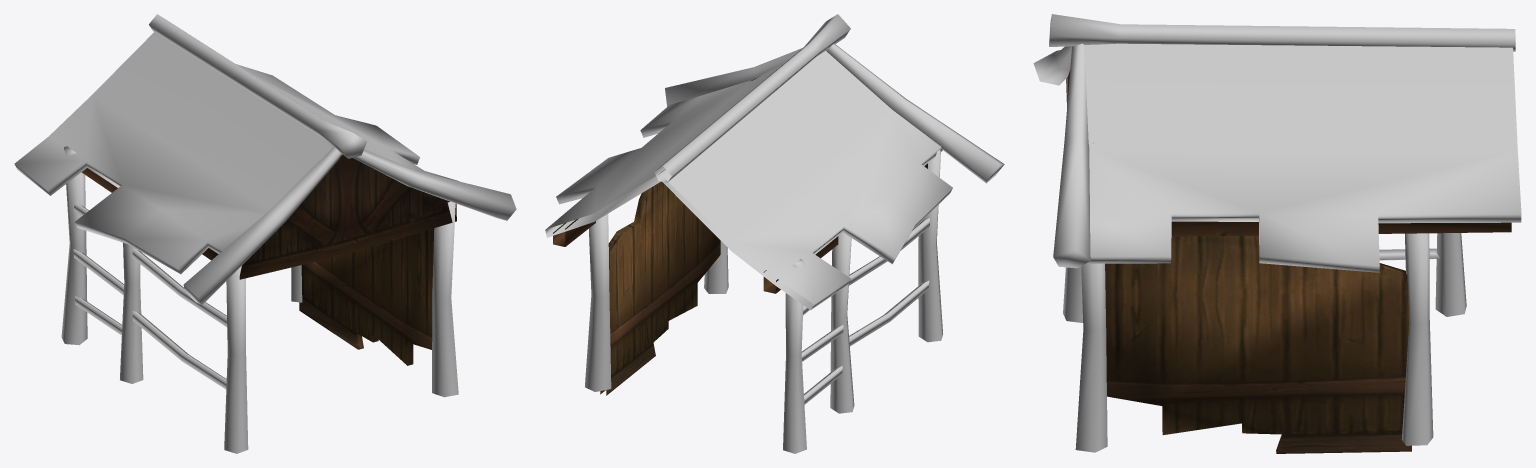
Rendered from environment_common_mupeng_004_a.FBX.
3 renders of one model, left to right at view 1: azimuth 30°, elevation 25°; view 2: azimuth 150°, elevation 25°; view 3: azimuth 270°, elevation 25°, orthographic. The views are drawn at different scales.
Parts seen in each view (by area): view 1: environment_common_mupeng_004_c, environment_common_mupeng_004_a, environment_common_mupeng_004_b, environment_common_mupeng_004_d; view 2: environment_common_mupeng_004_c, environment_common_mupeng_004_a, environment_common_mupeng_004_d, environment_common_mupeng_004_b; view 3: environment_common_mupeng_004_c, environment_common_mupeng_004_d, environment_common_mupeng_004_a, environment_common_mupeng_004_b.
Boxes of the visible parts, left/top/right/bottom form: environment_common_mupeng_004_c: left=14, top=32, right=458, bottom=274; environment_common_mupeng_004_a: left=61, top=14, right=516, bottom=453; environment_common_mupeng_004_b: left=81, top=155, right=456, bottom=279; environment_common_mupeng_004_d: left=299, top=228, right=434, bottom=365; environment_common_mupeng_004_c: left=545, top=51, right=952, bottom=310; environment_common_mupeng_004_a: left=585, top=14, right=1004, bottom=453; environment_common_mupeng_004_d: left=600, top=181, right=720, bottom=395; environment_common_mupeng_004_b: left=553, top=76, right=927, bottom=293; environment_common_mupeng_004_c: left=1084, top=43, right=1521, bottom=272; environment_common_mupeng_004_d: left=1105, top=235, right=1411, bottom=453; environment_common_mupeng_004_a: left=1033, top=14, right=1515, bottom=452; environment_common_mupeng_004_b: left=1067, top=70, right=1511, bottom=236.
Size of the model in its own units: 343 by 299 by 349.
